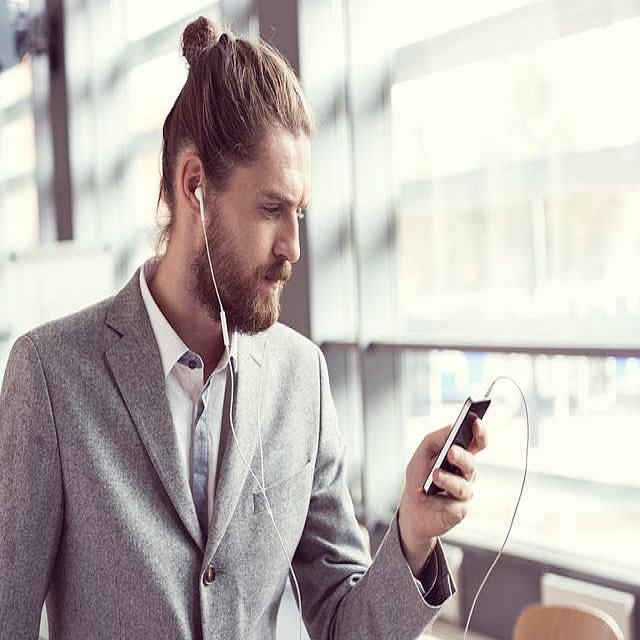beard: (206, 212, 291, 333), (190, 225, 221, 333)
hair: (158, 17, 313, 210)
